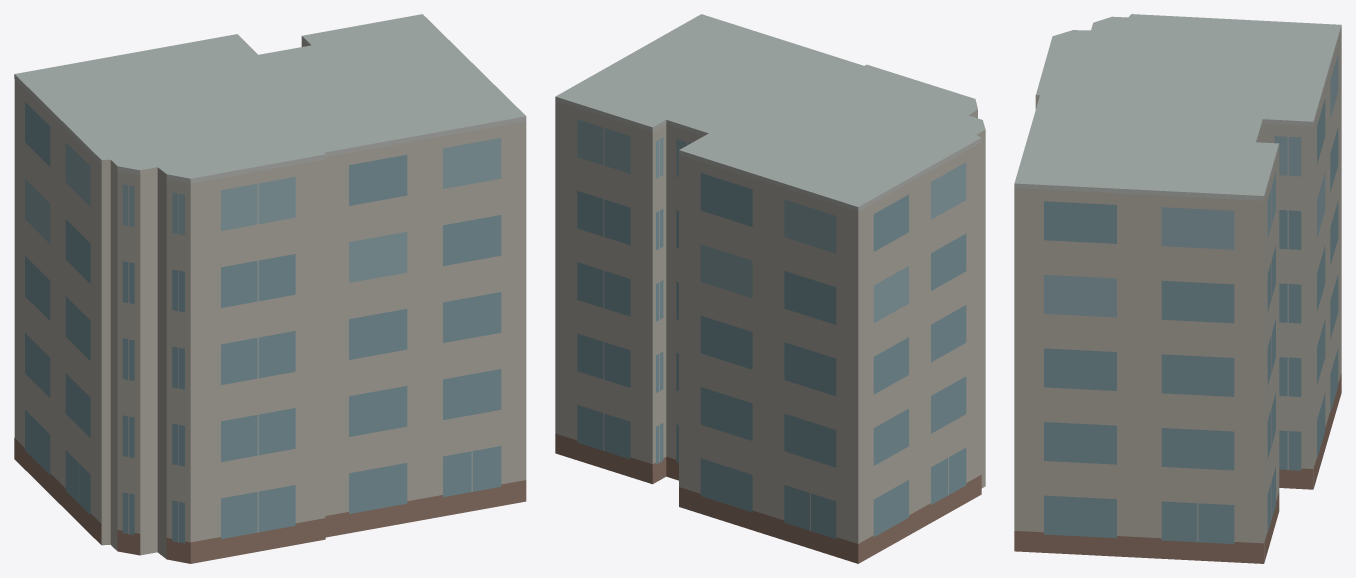
File: survey-upis-32943850.glb
3 renders of one model, left to right at view 1: azimuth 30°, elevation 25°; view 2: azimuth 150°, elevation 25°; view 3: azimuth 270°, elevation 25°, orthographic. The views are drawn at different scales.
Visible parts, largest first — view 1: survey-upis-32943850.tmp; view 2: survey-upis-32943850.tmp; view 3: survey-upis-32943850.tmp.
Boxes of the visible parts, x1,y1,x2,y2 form: survey-upis-32943850.tmp: (14, 14, 526, 563); survey-upis-32943850.tmp: (555, 14, 985, 563); survey-upis-32943850.tmp: (1014, 14, 1341, 563).
Size of the model in its own units: 20.28 by 19.1 by 15.41.
